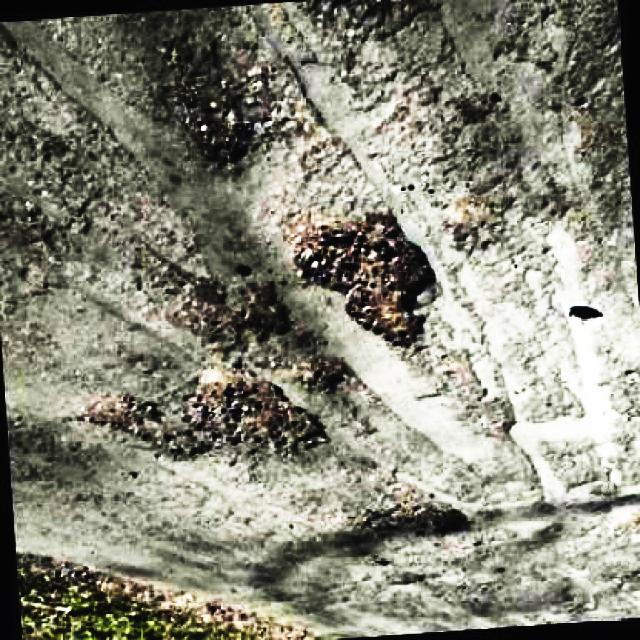pothole: (295, 203, 440, 349), (94, 368, 329, 458), (156, 45, 252, 166), (156, 274, 290, 346), (358, 478, 472, 534)
